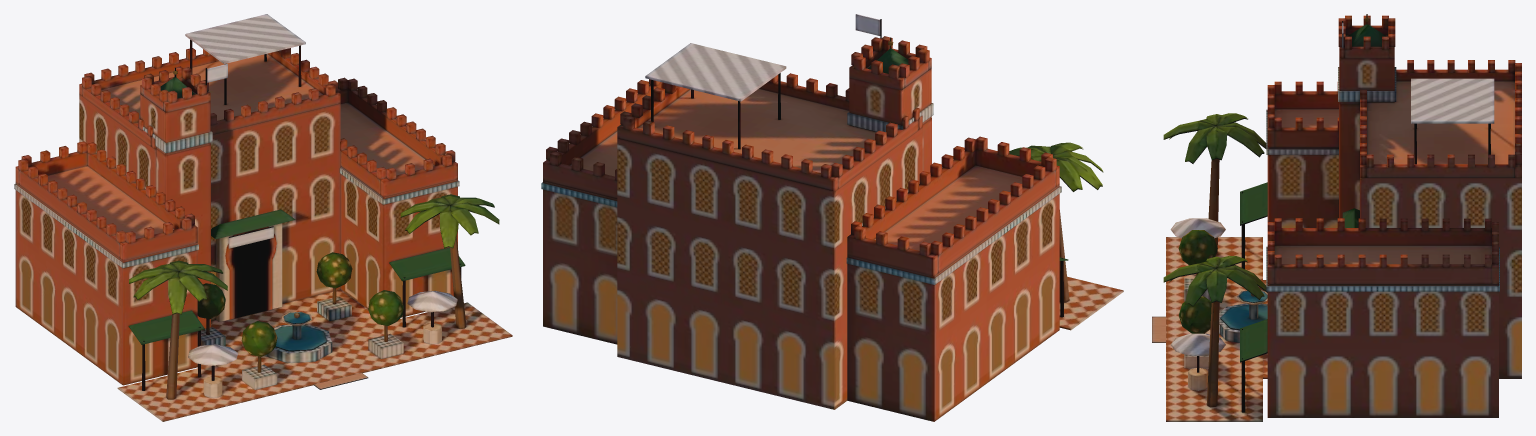
The model's file is riad_atlas.glb.
The picture shows the model from 3 angles, left to right: view 1: azimuth 30°, elevation 25°; view 2: azimuth 150°, elevation 25°; view 3: azimuth 270°, elevation 25°; orthographic projection. The views are drawn at different scales.
Parts seen in each view (by area): view 1: stage_1_body, stage_2_body, stage_4_body, stage_3_body, stage_1_tint, stage_4_tint; view 2: stage_1_body, stage_2_body, stage_3_body, stage_1_tint, stage_4_body; view 3: stage_3_body, stage_1_body, stage_4_body, stage_2_body, stage_1_tint, stage_4_tint.
Boxes of the visible parts, box(x1,y1,x2,y2) form: stage_1_body: box(79, 39, 368, 389); stage_2_body: box(14, 141, 204, 390); stage_4_body: box(117, 194, 512, 421); stage_3_body: box(338, 77, 465, 327); stage_1_tint: box(185, 14, 305, 248); stage_4_tint: box(188, 290, 457, 365); stage_1_body: box(617, 19, 933, 409); stage_2_body: box(846, 136, 1068, 421); stage_3_body: box(541, 79, 664, 344); stage_1_tint: box(645, 14, 880, 101); stage_4_body: box(1009, 142, 1123, 330); stage_3_body: box(1240, 218, 1499, 417); stage_1_body: box(1152, 14, 1521, 378); stage_4_body: box(1163, 113, 1267, 421); stage_2_body: box(1240, 81, 1338, 268); stage_1_tint: box(1342, 22, 1494, 123); stage_4_tint: box(1170, 218, 1225, 355).
Bounding box in the file's own units: 19.2 × 13.52 × 16.
Materials: 2 (2 with a texture image).
